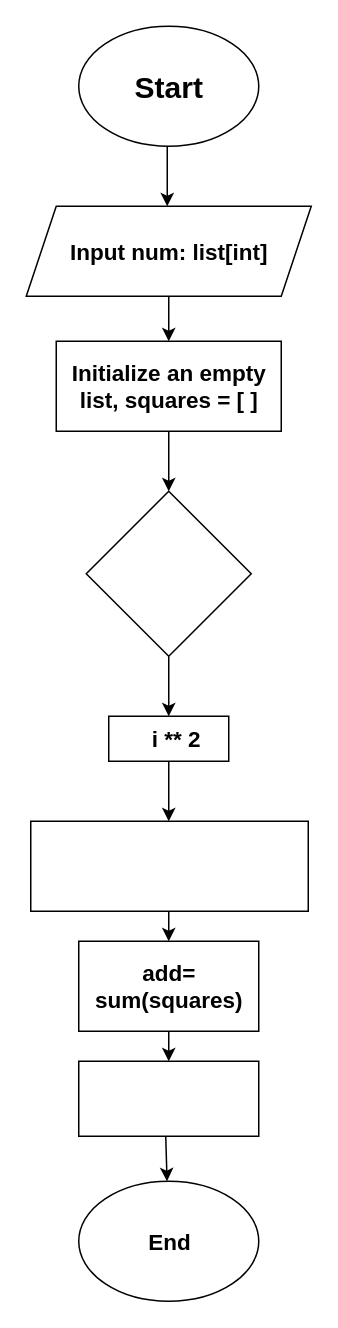
Image size: 338x1328. Some labels were removed from this diagram. Here are the shapes that lost their labels. From the top down, the box of each, then its label:
(85, 490, 251, 656): for i in nums
(29, 820, 308, 911): squares.append(i **2)
(77, 1060, 259, 1136): print sum
